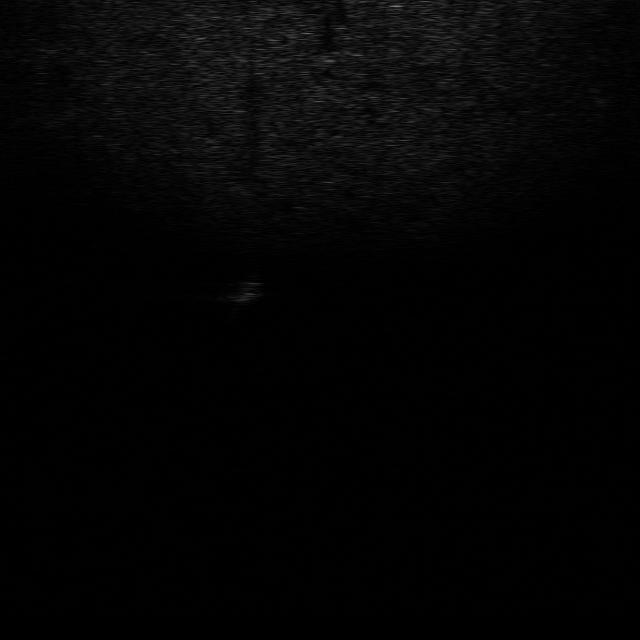human body: (227, 270, 265, 322)
